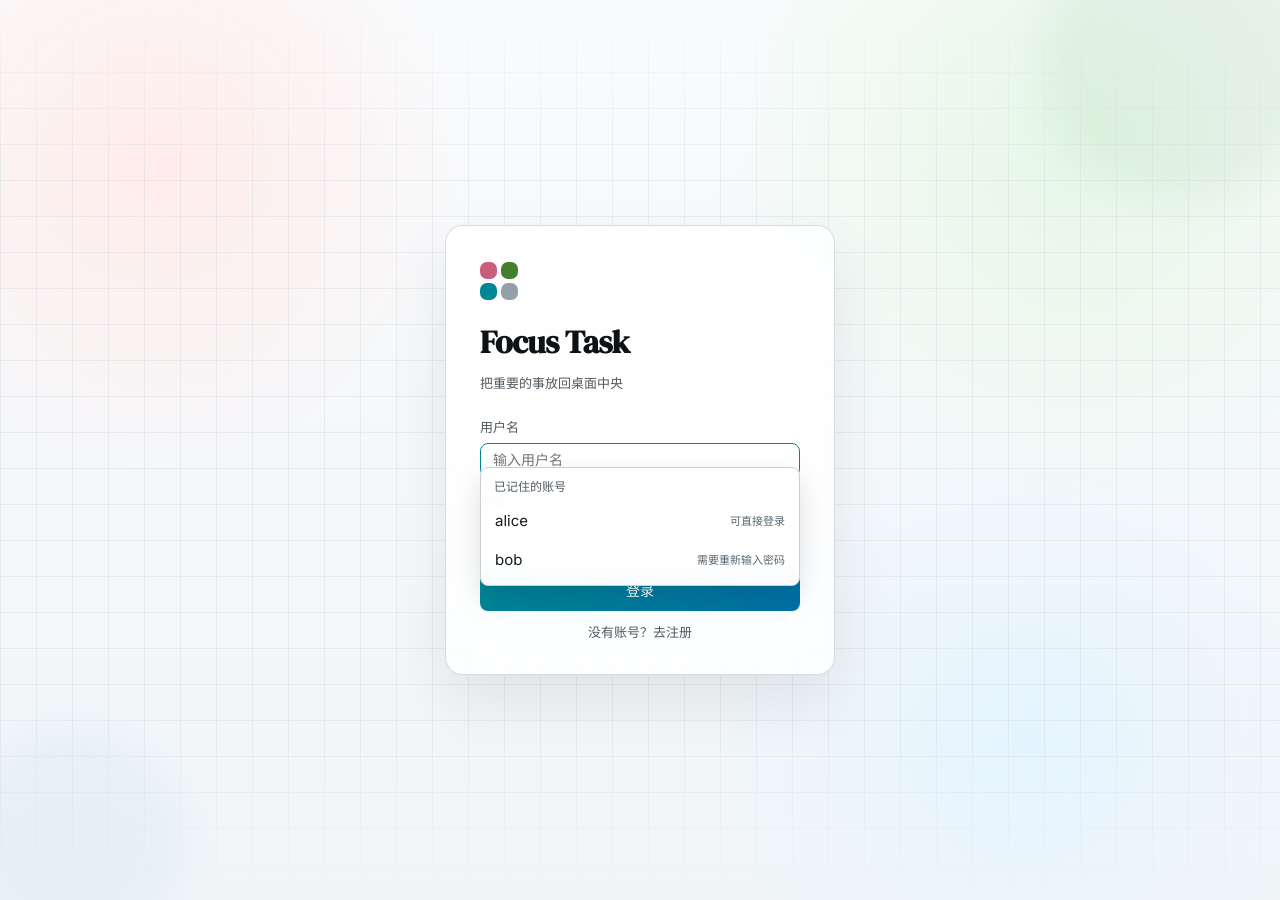
Test: 登录页已记住账号选择 › 选择没有会话的账号时保留用户名并要求输入密码
This screenshot has width=1280, height=900.
Click the option "bob 需要重新输入密码".
click(741, 560)  # box x1=487 y1=540 x2=793 y2=579
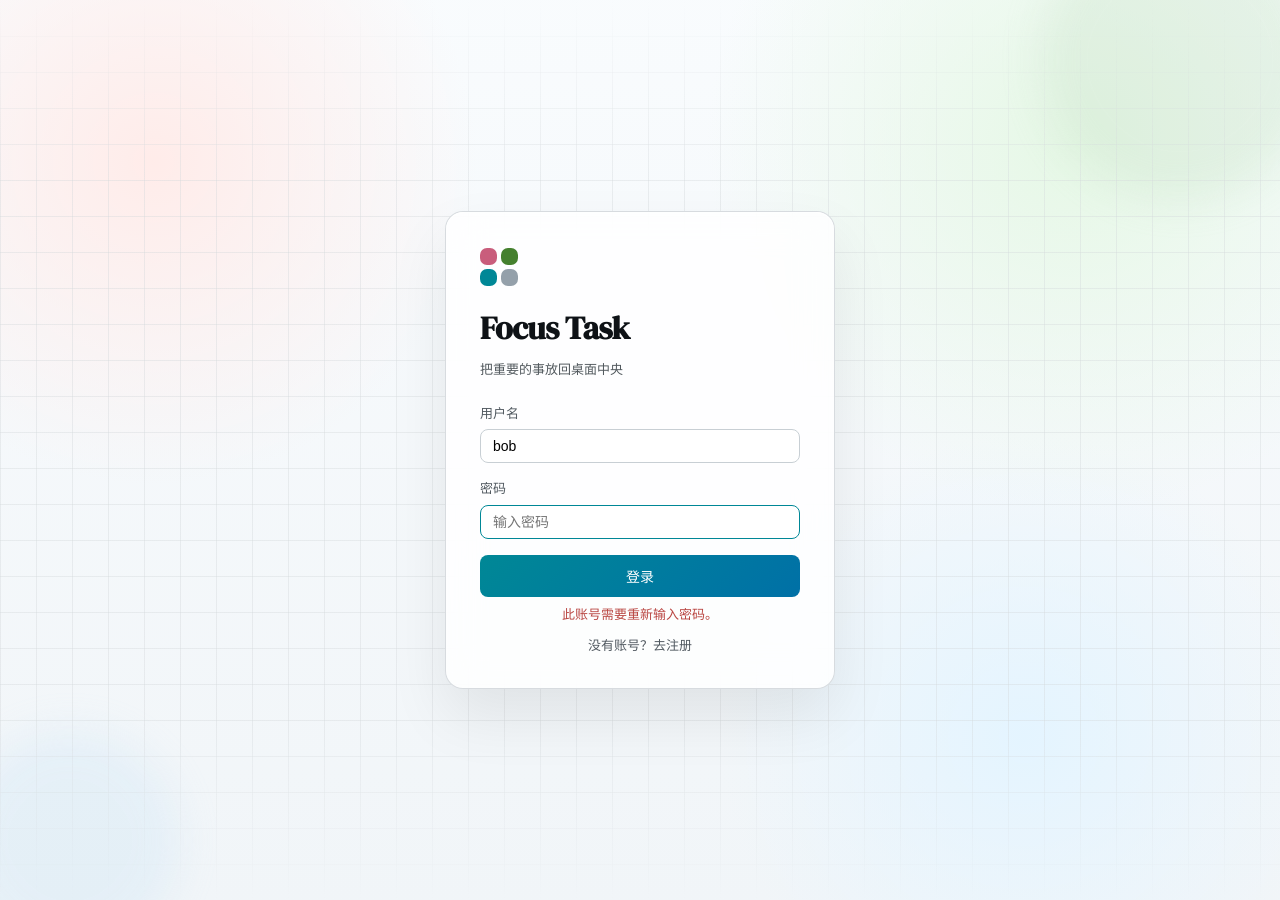
Expected: the field with id "login-username" holds "bob", x1=480 y1=429 x2=800 y2=463
Expected: the text "此账号需要重新输入密码。" is shown, x1=562 y1=606 x2=718 y2=622
